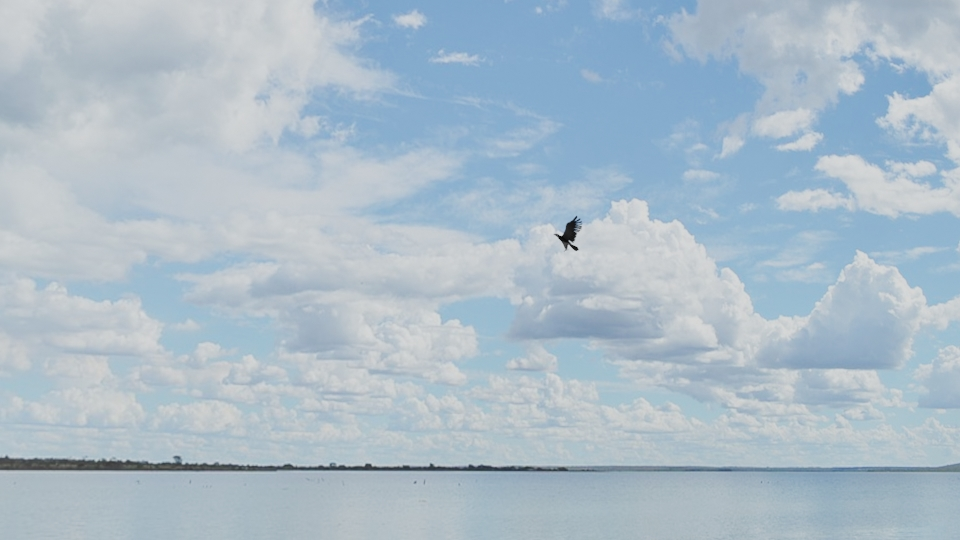bird: (554, 215, 581, 250)
